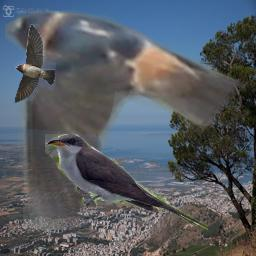Cuckoo: (45, 134, 208, 232)
Swallow: (5, 1, 246, 230), (14, 24, 56, 103)
